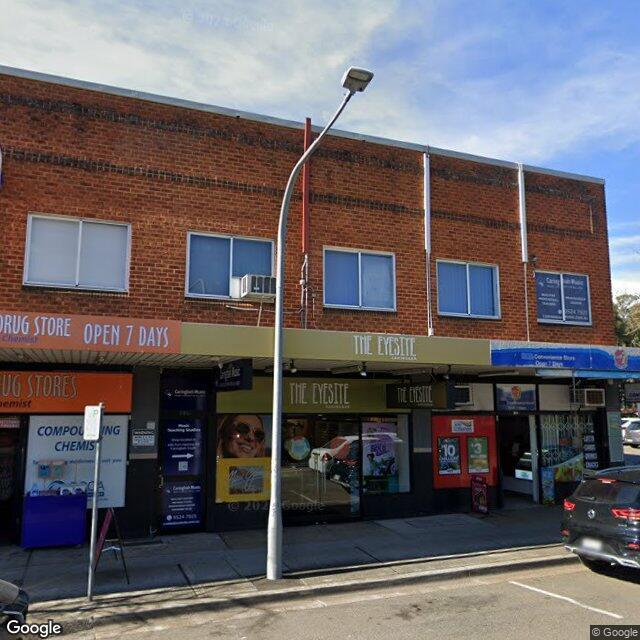steel-pole: (268, 206, 288, 580)
streetlight: (283, 66, 374, 208)
